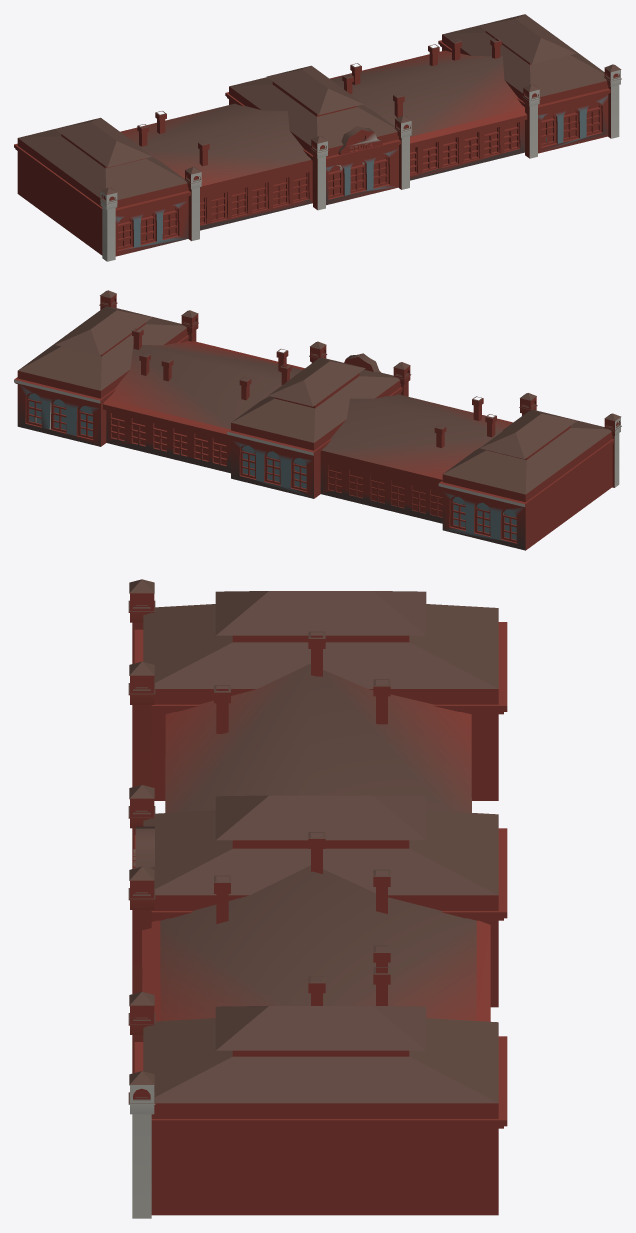
The picture shows the model from 3 angles, top to bottom: view 1: azimuth 30°, elevation 25°; view 2: azimuth 150°, elevation 25°; view 3: azimuth 270°, elevation 25°; orthographic projection. The views are drawn at different scales.
Visible parts, largest first — view 1: polySurface9:PIV; view 2: polySurface9:PIV; view 3: polySurface9:PIV.
Part boxes in pixels (x1,y1,x2,y2): polySurface9:PIV: (14, 14, 621, 261); polySurface9:PIV: (14, 290, 621, 550); polySurface9:PIV: (128, 579, 507, 1218).
Bounding box in the file's own units: 61.86 × 9.87 × 19.68.
